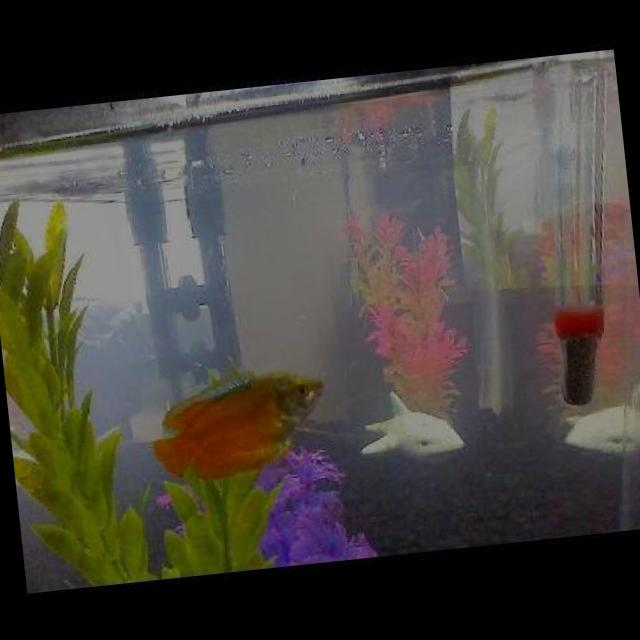Gourami: (147, 358, 329, 488)
